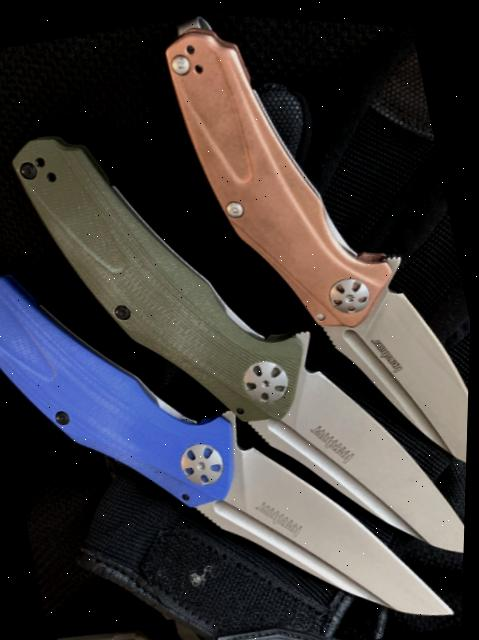pocket-knife: (0, 46, 478, 638), (0, 167, 472, 640), (139, 8, 479, 522)
